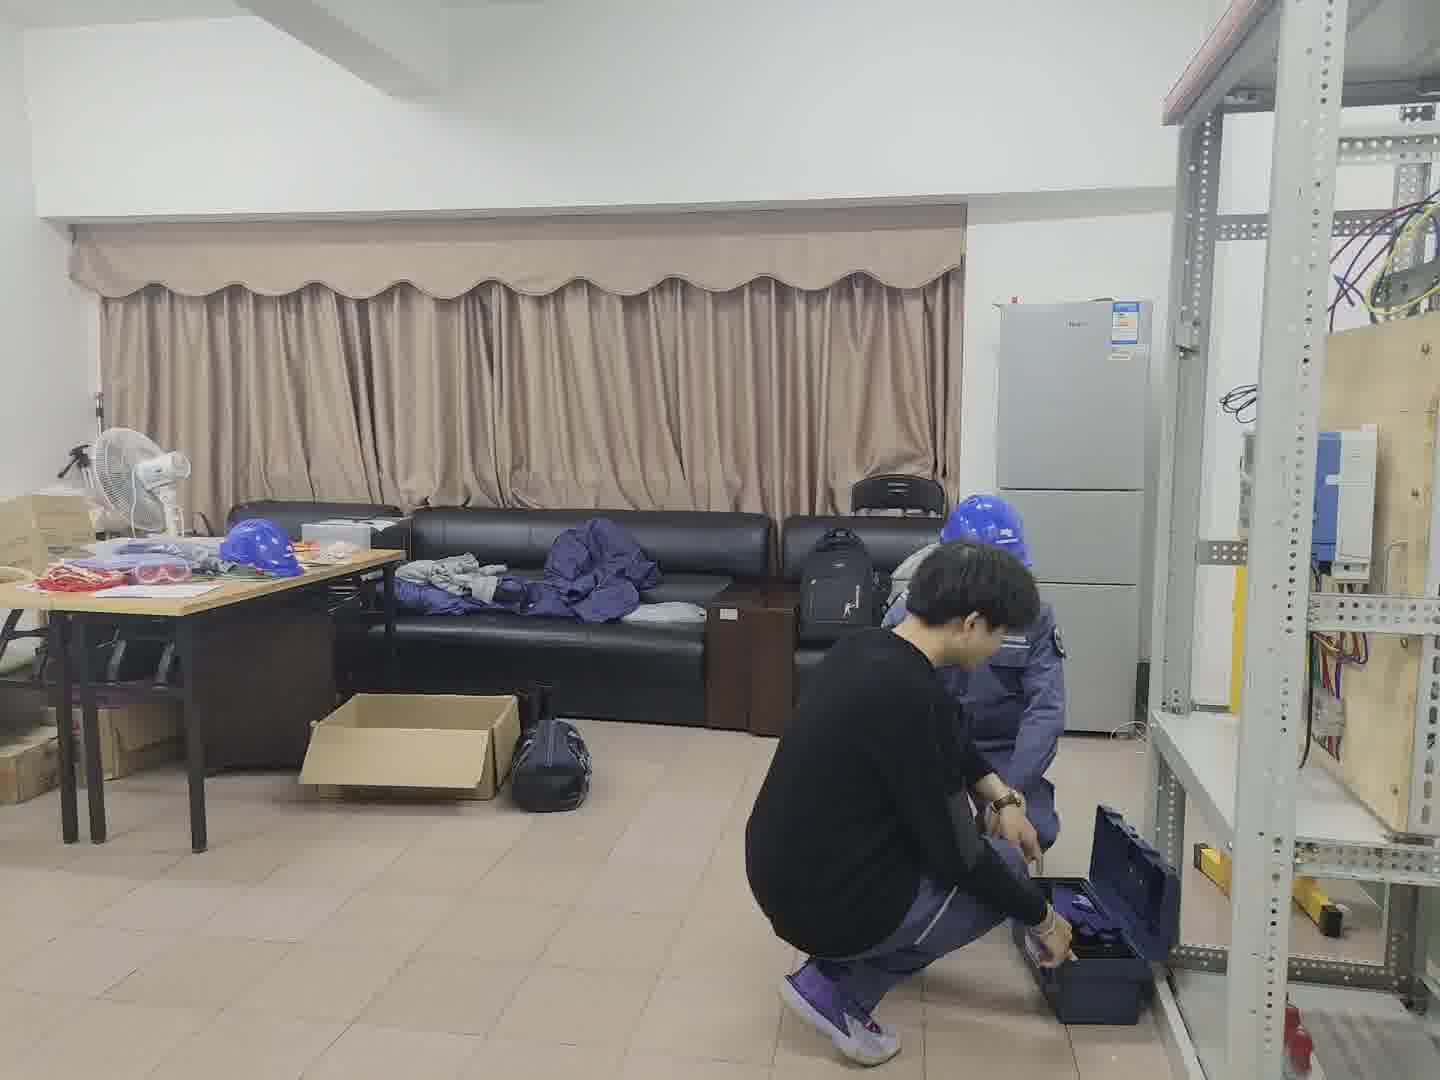hand: (996, 806, 1049, 873), (1032, 906, 1077, 977)
noear: (945, 599, 996, 666)
person: (754, 498, 1052, 1070), (925, 485, 1069, 868)
sleeve: (1047, 621, 1070, 665)
unhalt: (900, 538, 1042, 663)
upcloth: (738, 620, 1051, 940)
upsuit: (899, 579, 1074, 794)
